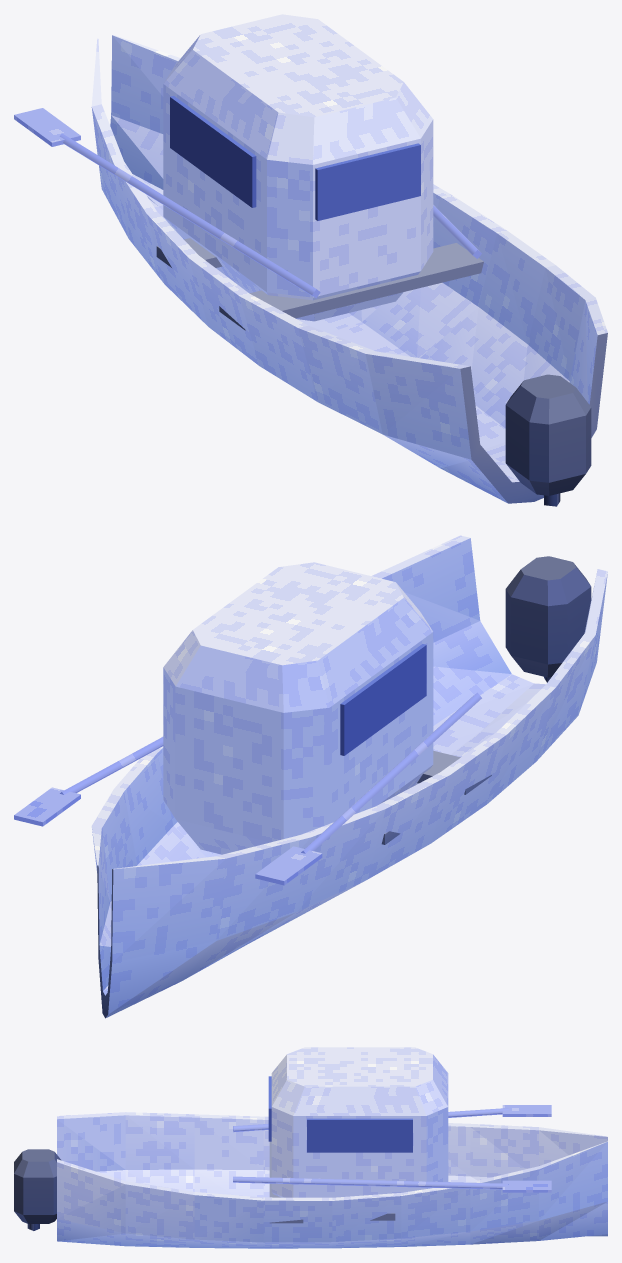
Rendered from vehicle.boat.glb.
The picture shows the model from 3 angles, top to bottom: view 1: azimuth 30°, elevation 25°; view 2: azimuth 150°, elevation 25°; view 3: azimuth 270°, elevation 25°; orthographic projection. The views are drawn at different scales.
Parts seen in each view (by area): view 1: kit_boat_detail, kit_hull; view 2: kit_boat_detail, kit_hull; view 3: kit_hull, kit_boat_detail.
Boxes of the visible parts, left/top/right/bottom form: kit_boat_detail: left=14, top=14, right=591, bottom=506; kit_hull: left=91, top=35, right=607, bottom=503; kit_boat_detail: left=14, top=556, right=591, bottom=885; kit_hull: left=91, top=535, right=607, bottom=1018; kit_hull: left=57, top=1112, right=607, bottom=1248; kit_boat_detail: left=14, top=1047, right=551, bottom=1230.
Bounding box in the file's own units: 1.31 × 1.22 × 3.88.
5 materials, 2 textured.
